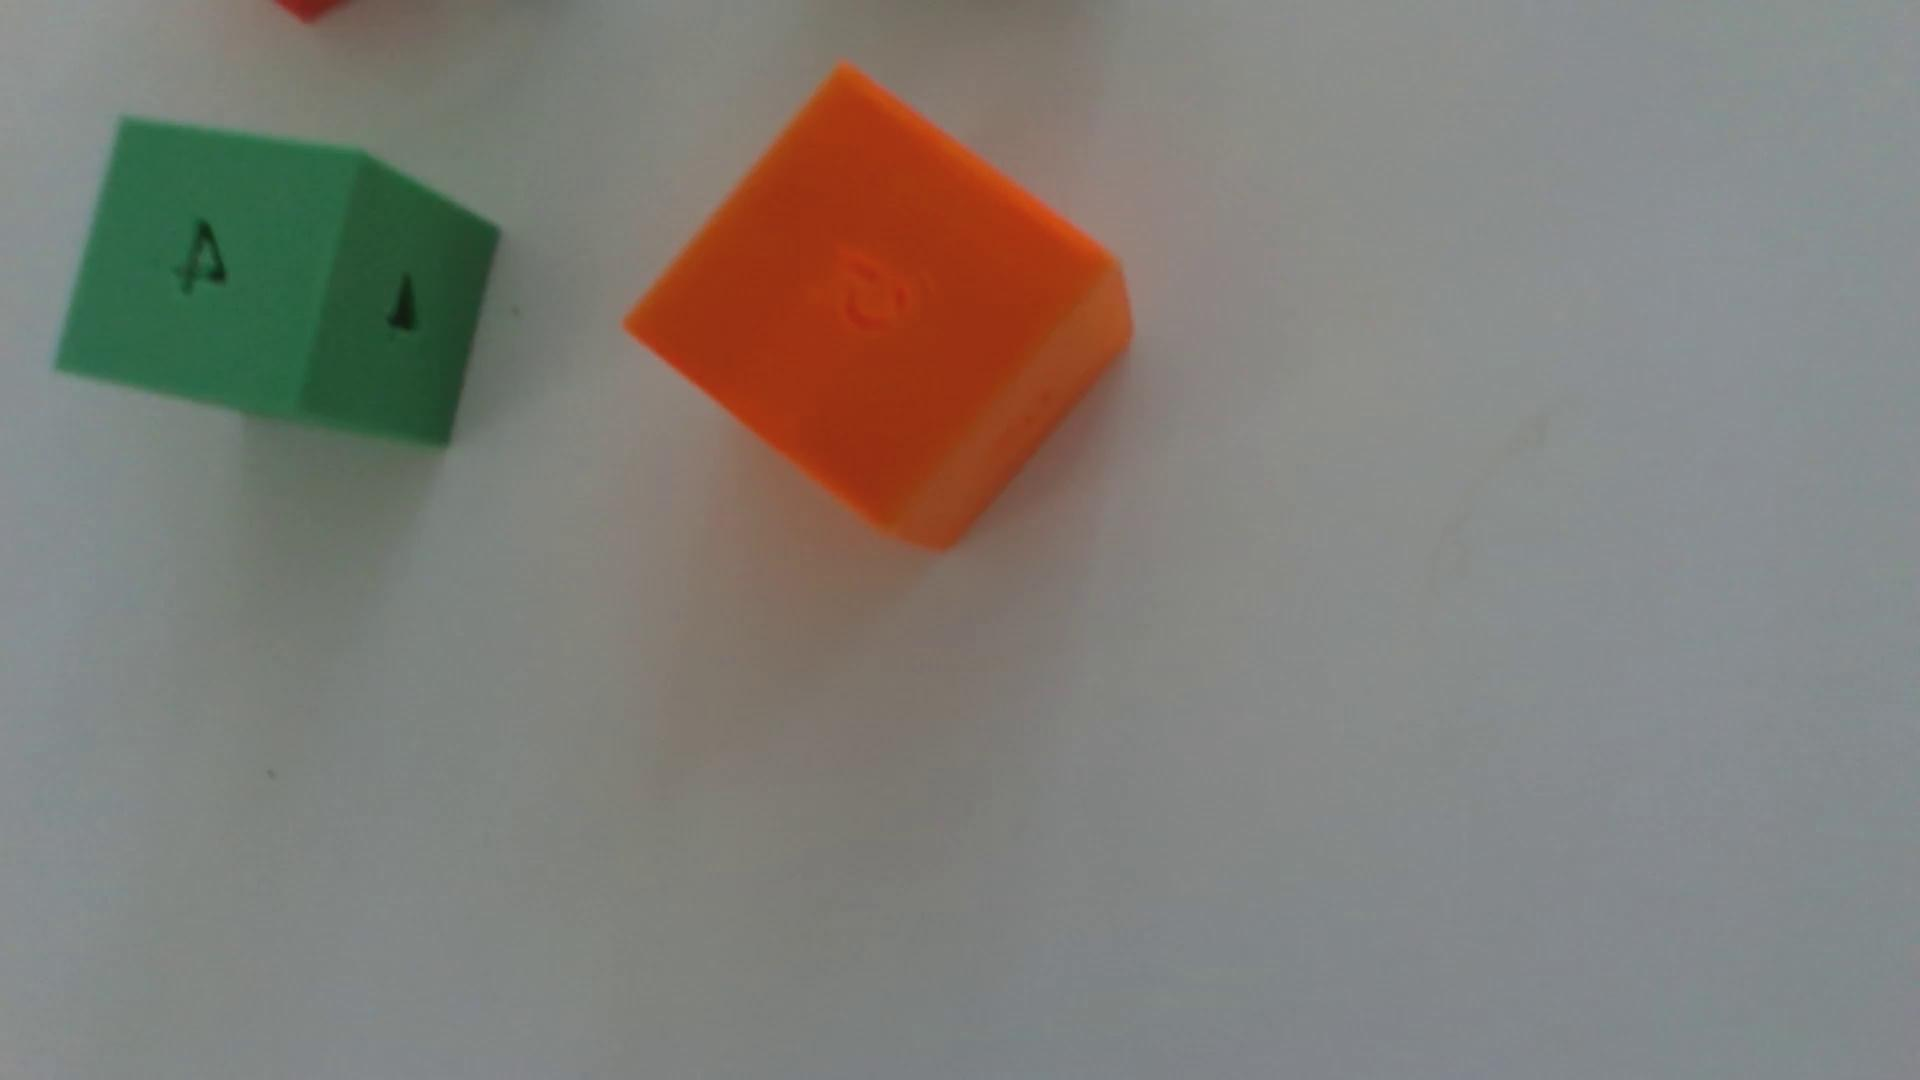green: (55, 119, 500, 448)
orange: (626, 66, 1133, 550)
red: (274, 0, 349, 24)
